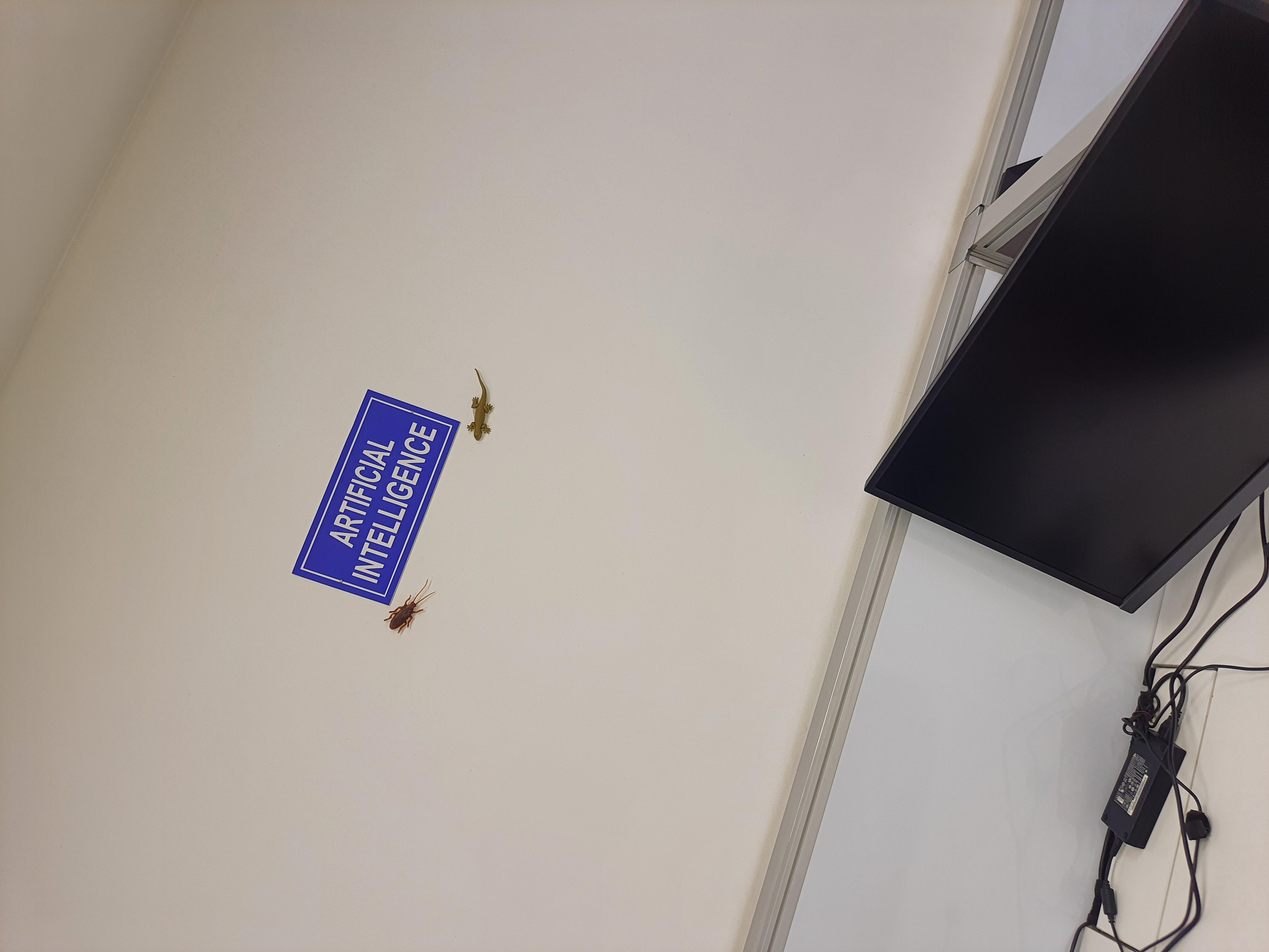cockroach: (392, 270, 507, 328)
lizard: (652, 324, 800, 379)
